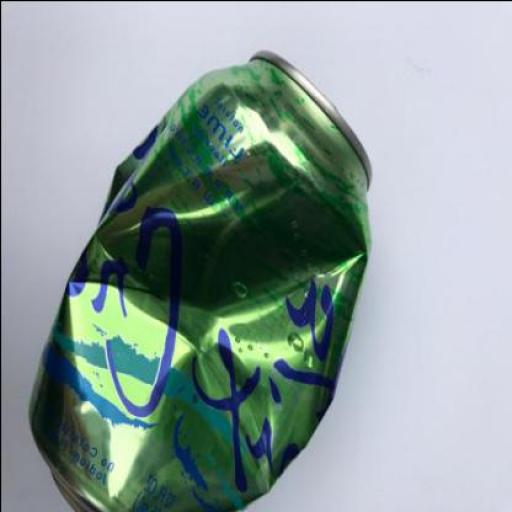metal: (28, 47, 370, 511)
